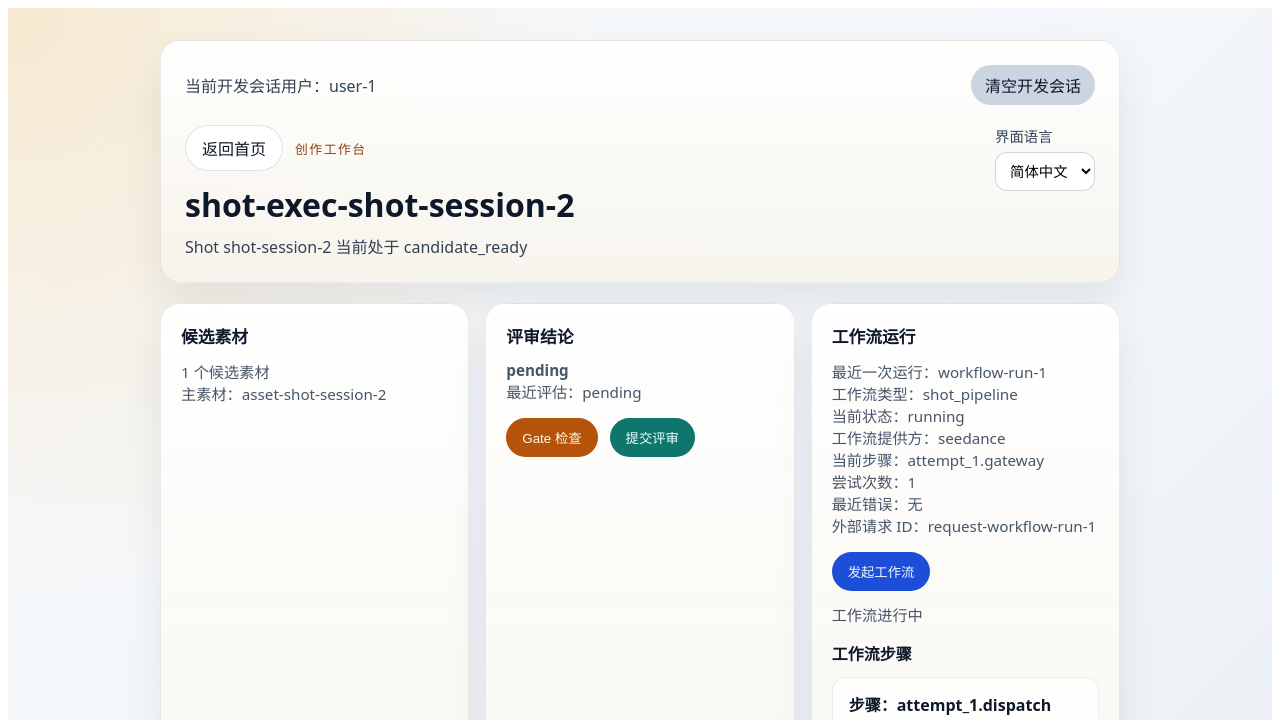
Test: App › clears the active dev session and returns creator to the session gate
The image size is (1280, 720).
Expected: the heading "shot-exec-shot-session-2" is shown, [185, 183, 574, 226]
Click the button "清空开发会话".
click(1033, 85)  # box [971, 65, 1095, 105]
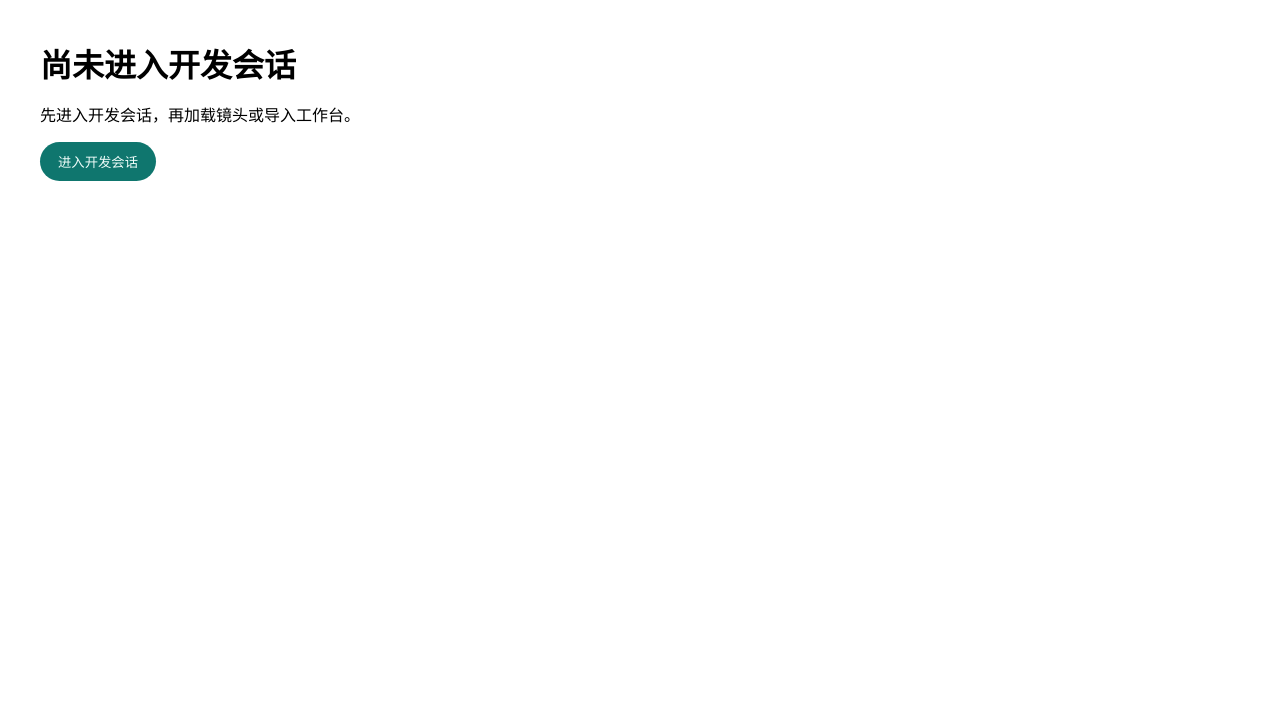
Expected: the heading "尚未进入开发会话" is shown, [40, 48, 296, 84]
